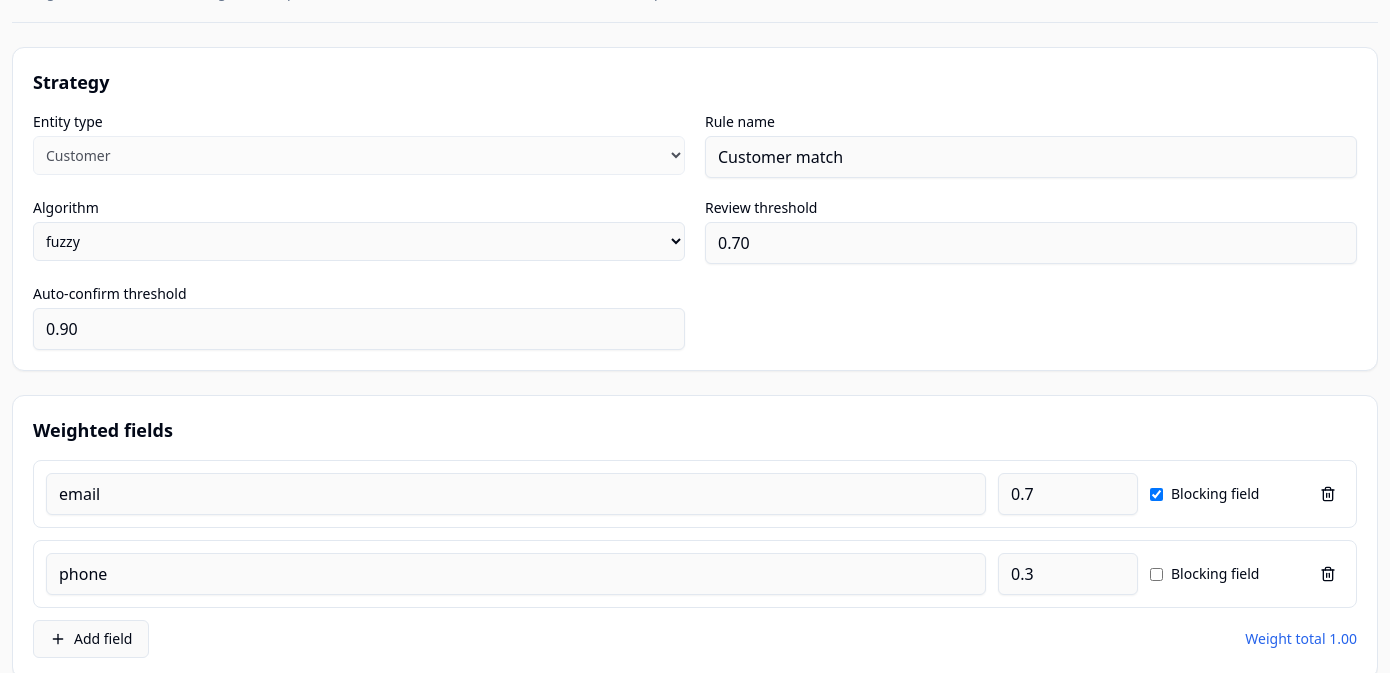
Test case: MatchingRuleForm low coverage behavior › updates an existing rule and exposes mutation failures
Expected: the dropdown labelled "Entity type" is disabled, [33,136,685,175]
Replace the text in the field labelled "Rule name" with "Updated customer match" at (1031, 157), box [705,136,1357,178]
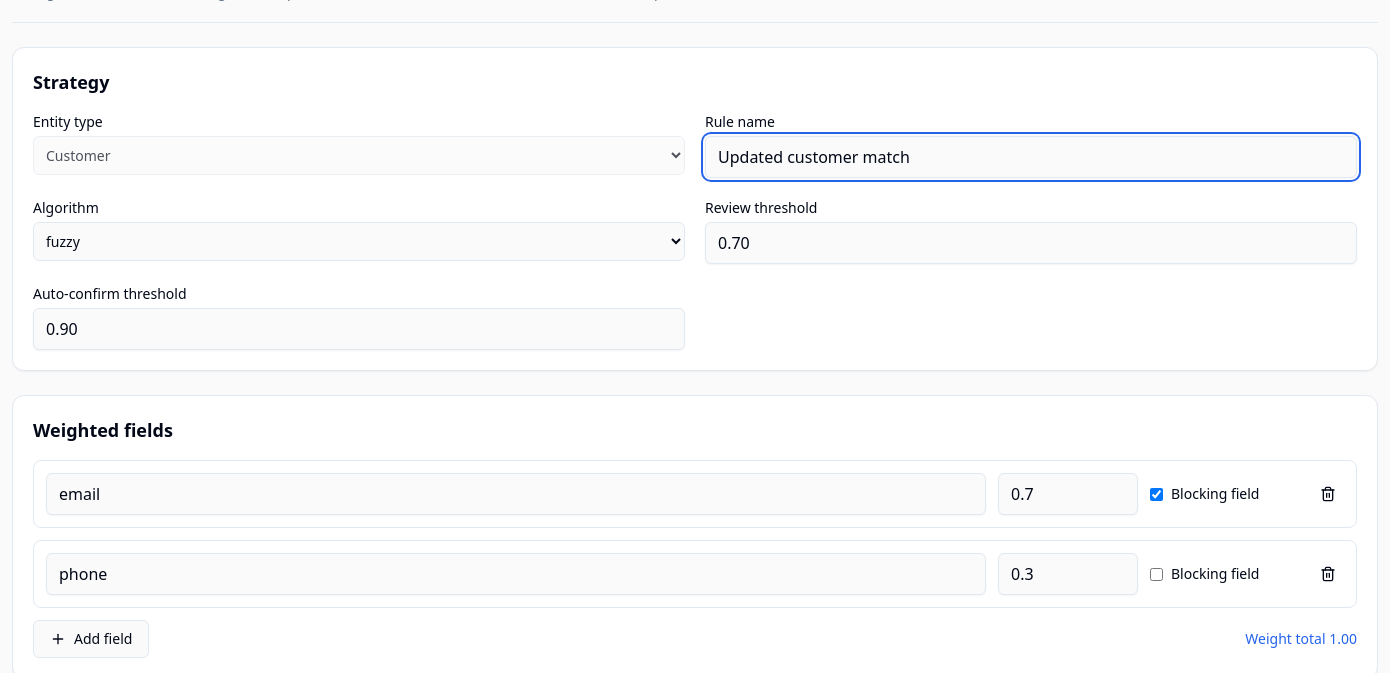
Click the button named "Remove field 2" at (1328, 574), box [1312,553,1344,595]
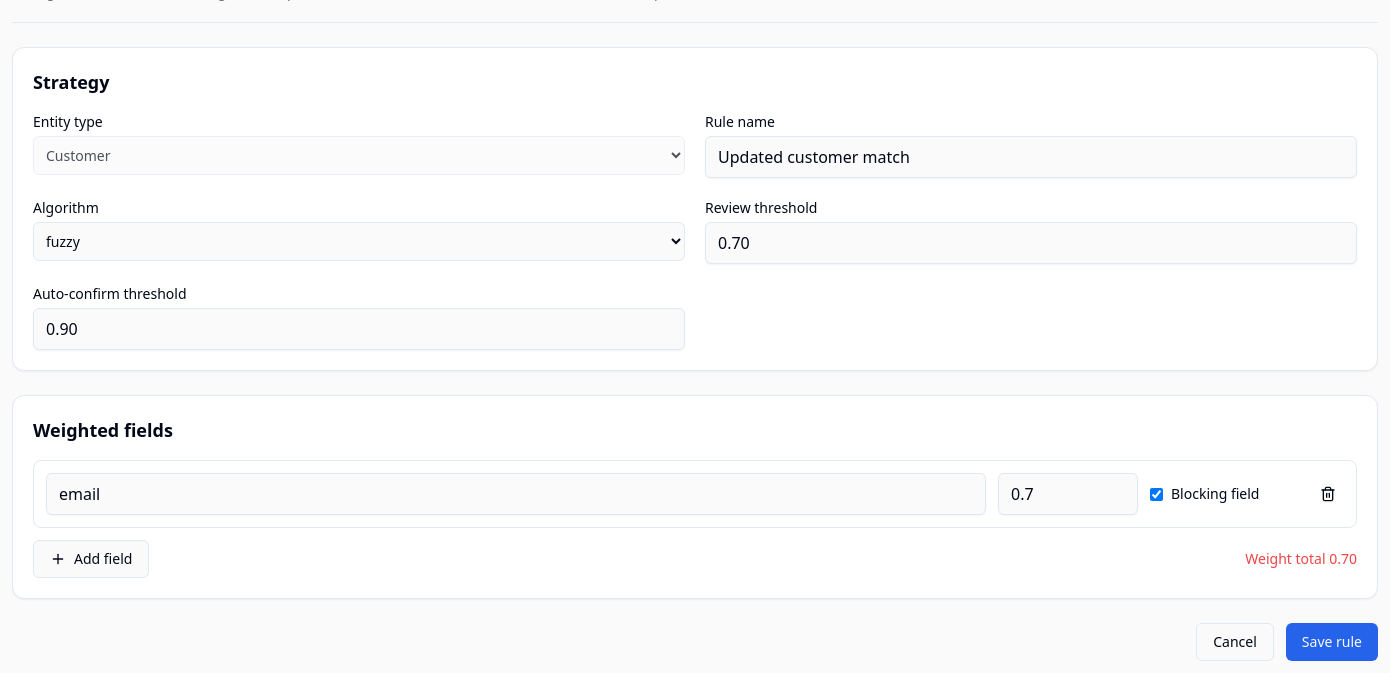
Replace the text in the number field named "Weight 1" with "1.0" at (1068, 494), box [998,473,1138,515]
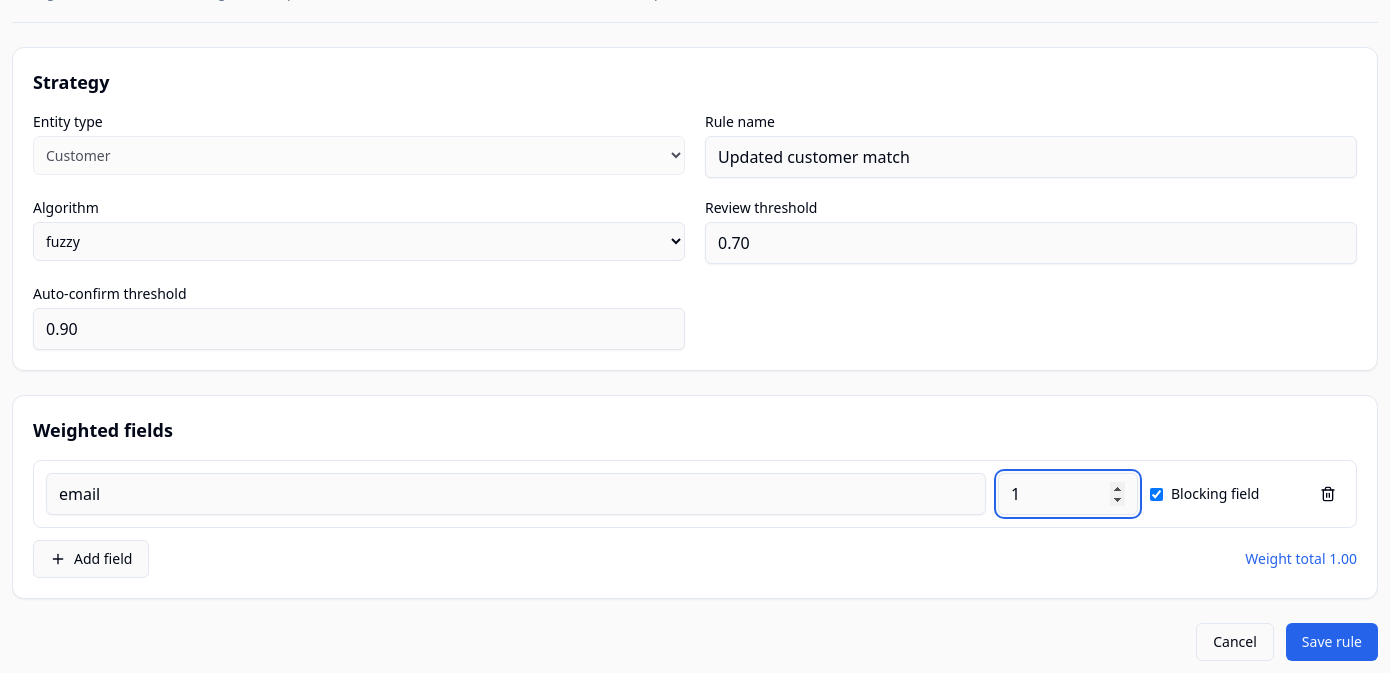
Click the button "Save rule" at (1332, 642), box [1286,623,1378,661]
(page scrolled)
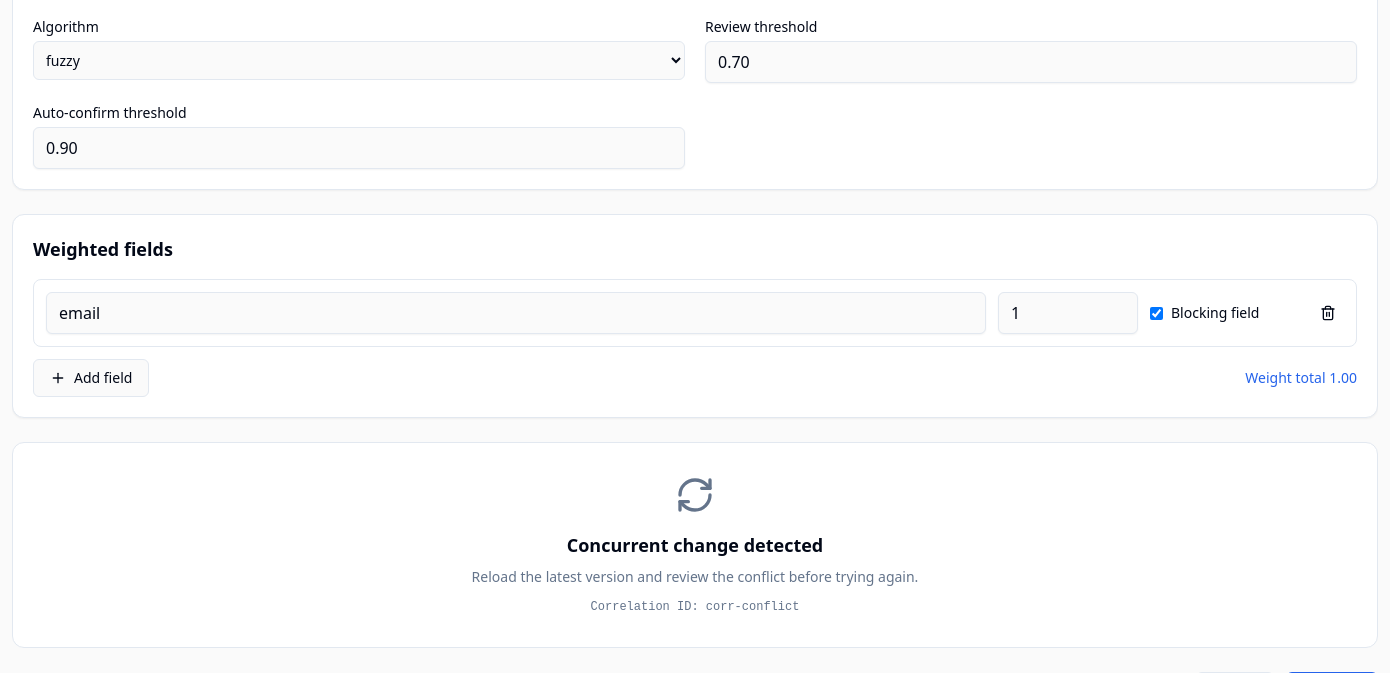
Expected: the message shows "Concurrent change detected", [567,533,823,557]
Expected: the message shows "corr-conflict", [706,600,799,614]
